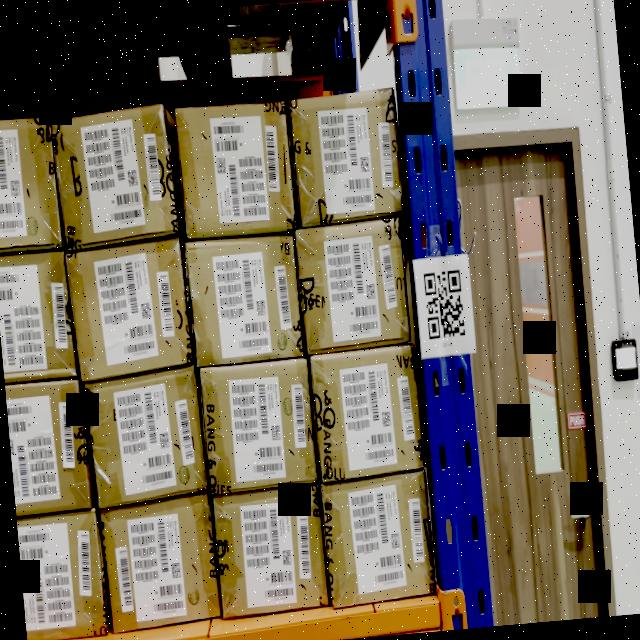box: (53, 110, 182, 250), (174, 96, 296, 244), (66, 238, 192, 377), (83, 372, 209, 506), (198, 357, 318, 494), (294, 218, 412, 356), (184, 233, 303, 367), (98, 498, 222, 626), (321, 471, 438, 606), (310, 346, 426, 479), (290, 90, 406, 222), (214, 486, 328, 616), (5, 376, 90, 514), (17, 512, 108, 640), (0, 246, 79, 380), (0, 113, 62, 250)
